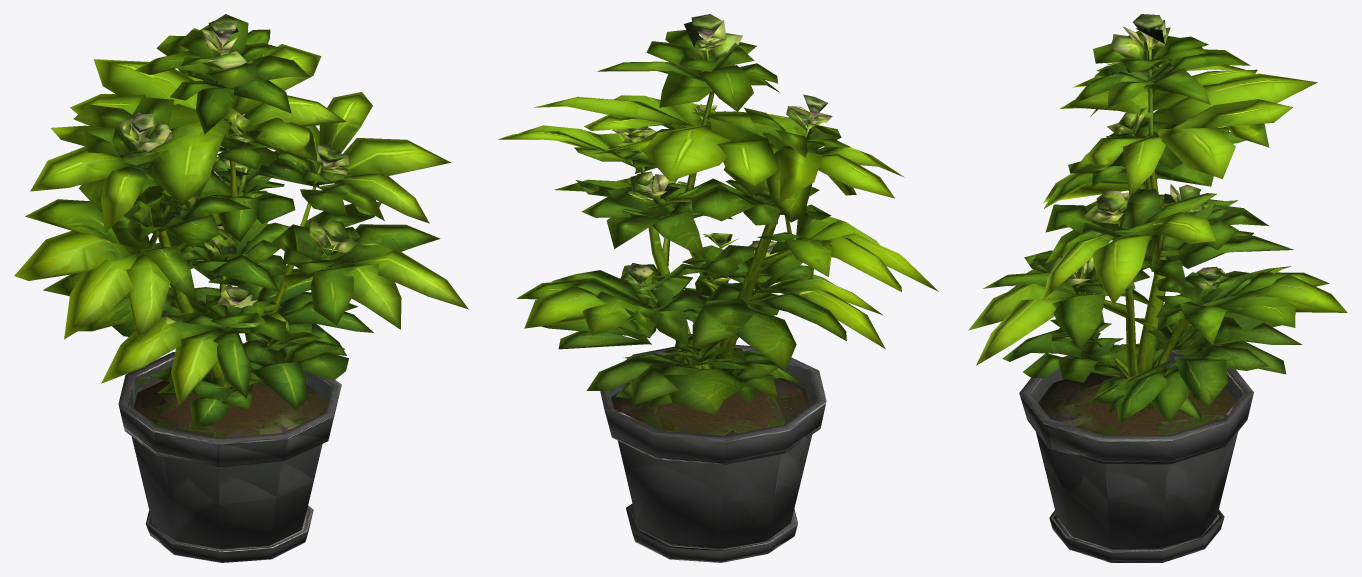
File: flowering.glb
3 views of the same model, side by side, from view 1: azimuth 30°, elevation 25°; view 2: azimuth 150°, elevation 25°; view 3: azimuth 270°, elevation 25° (orthographic). The views are drawn at different scales.
Size of the model in its own units: 0.8594 by 1 by 0.6758.
Materials: 1 (1 with a texture image).
